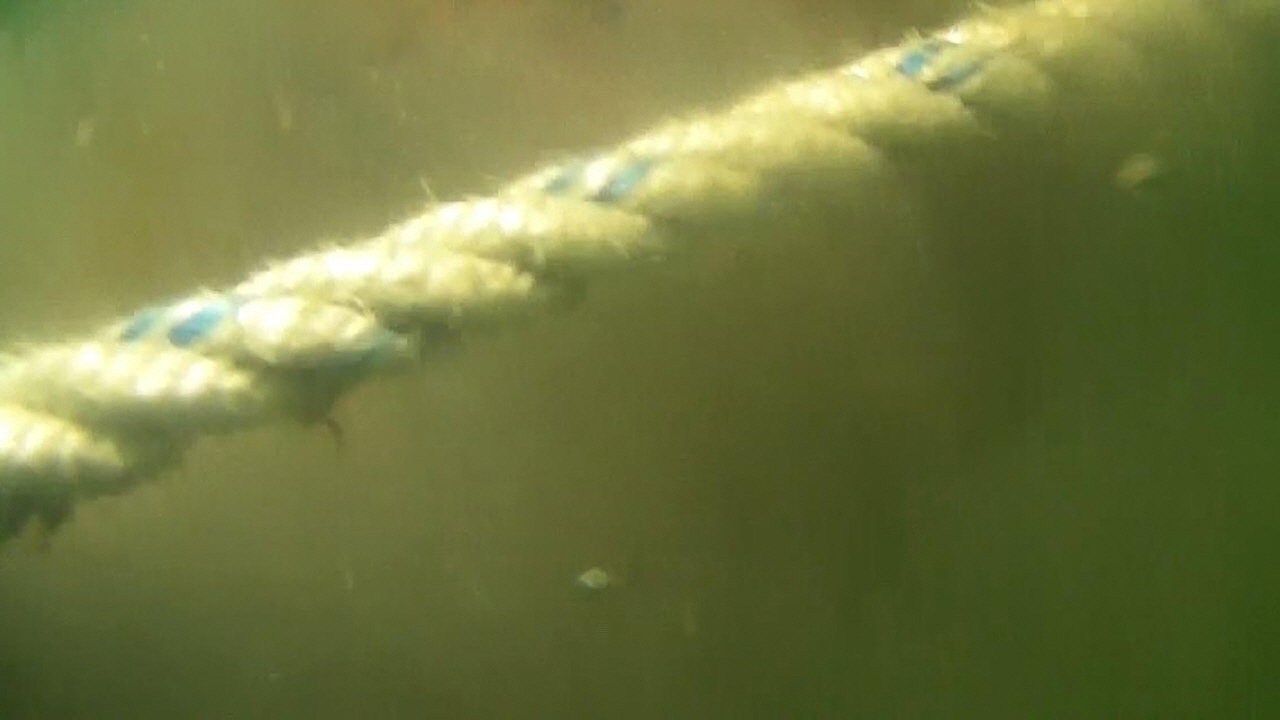rope: (0, 0, 1280, 545)
